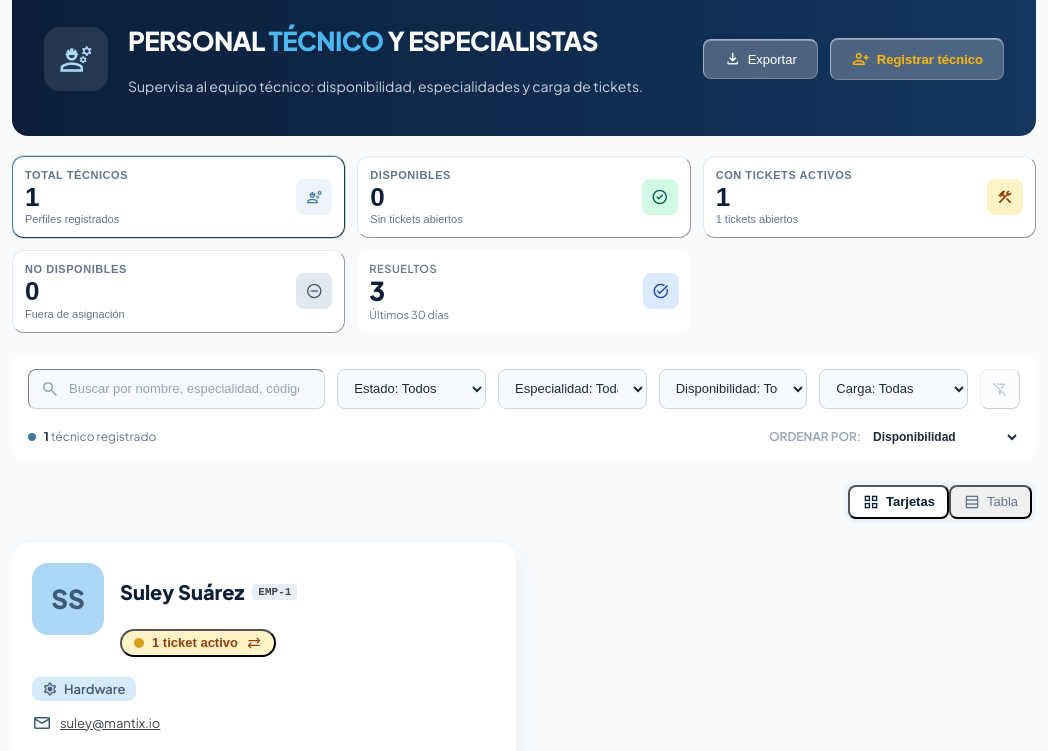
Scenario: TechniciansComponent › card view › shows avatar, name, specialty, availability, tag, e-mail, three stats and the profile button
Click the button "Tabla": (990, 502) top-left (949, 485), bottom-right (1032, 519)
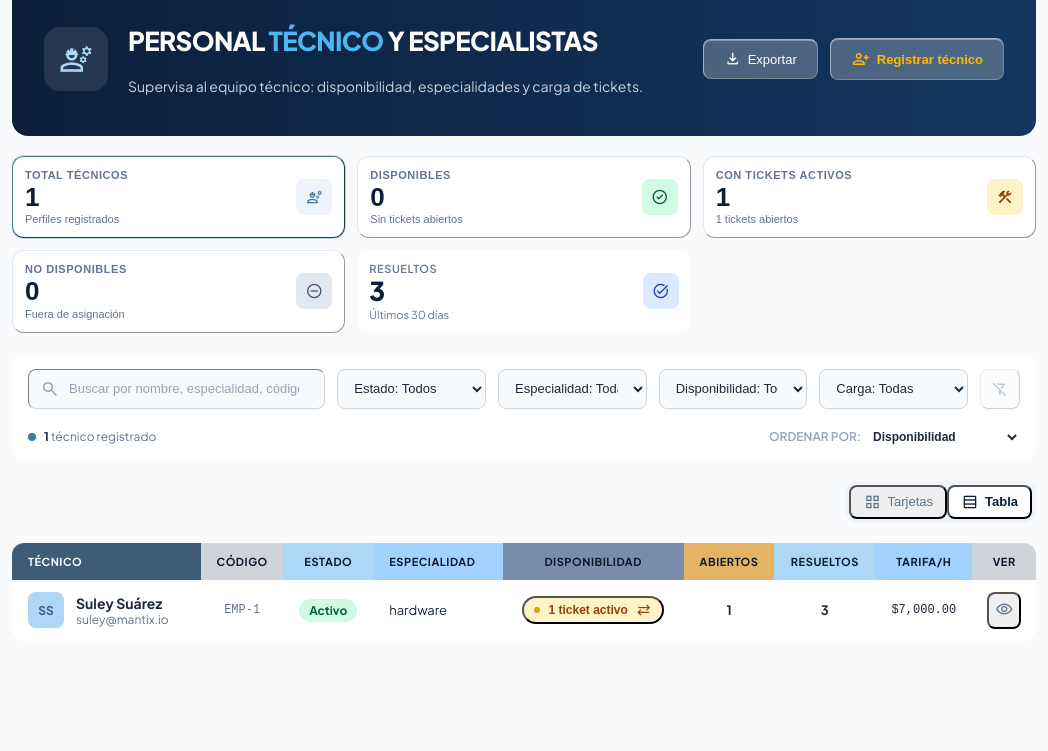
Click the button "Tarjetas": (898, 502) top-left (850, 485), bottom-right (947, 519)
(page scrolled)
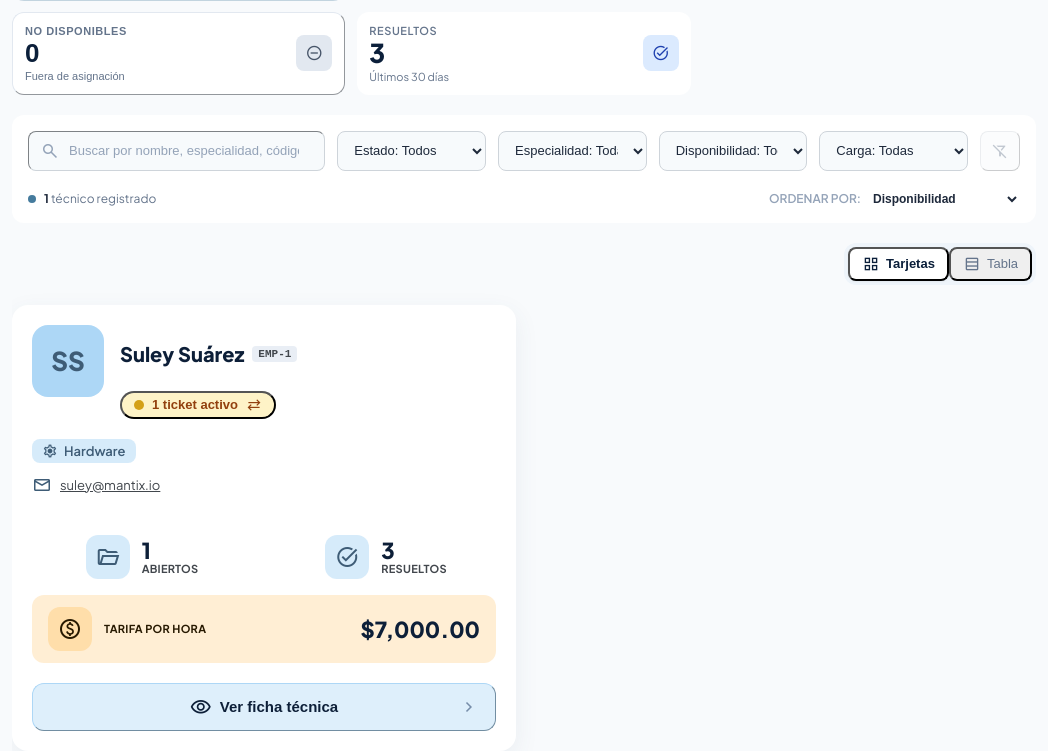
Result: the element that starts with "Suley Suárez" shows "SS" at top-left (51, 344), bottom-right (85, 377)
Result: the element that starts with "Suley Suárez" is shown at top-left (120, 341), bottom-right (244, 366)
Result: the element that starts with "Suley Suárez" shows "Hardware" at top-left (64, 443), bottom-right (126, 459)
